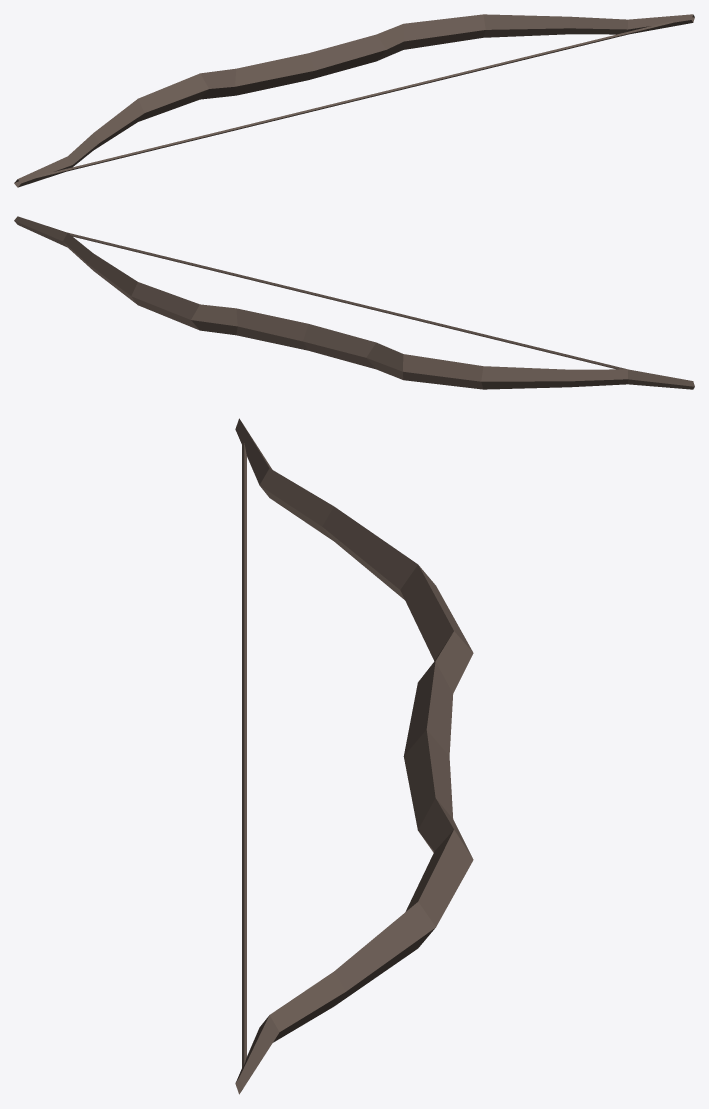
Rendered from Bow1.fbx.glb.
3 renders of one model, top to bottom at view 1: azimuth 30°, elevation 25°; view 2: azimuth 150°, elevation 25°; view 3: azimuth 270°, elevation 25°, orthographic. The views are drawn at different scales.
Parts seen in each view (by area): view 1: Bow1.1; view 2: Bow1.1; view 3: Bow1.1.
Boxes of the visible parts, left/top/right/bottom form: Bow1.1: left=14, top=14, right=694, bottom=187; Bow1.1: left=14, top=216, right=694, bottom=389; Bow1.1: left=235, top=418, right=473, bottom=1094.
Size of the model in its own units: 66.59 by 2.52 by 10.09.
